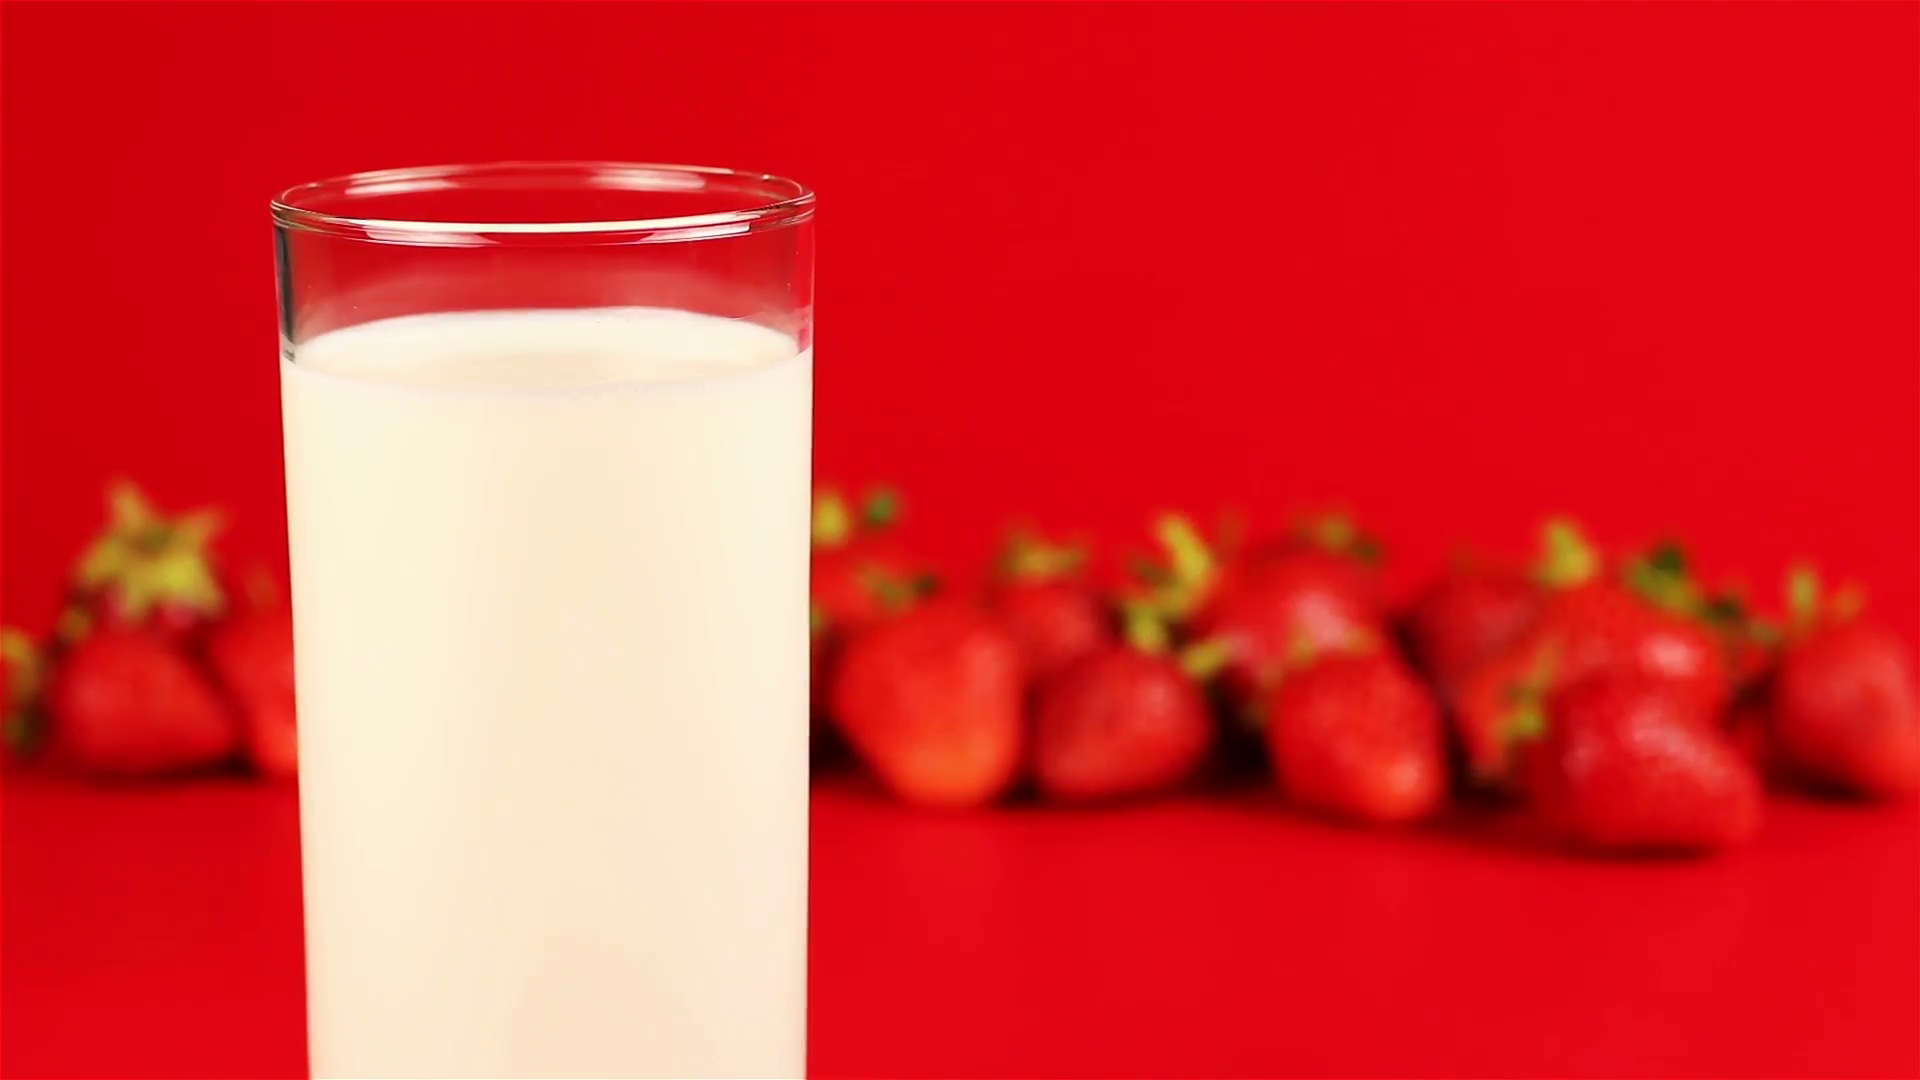glass of milk: (274, 167, 811, 1080)
